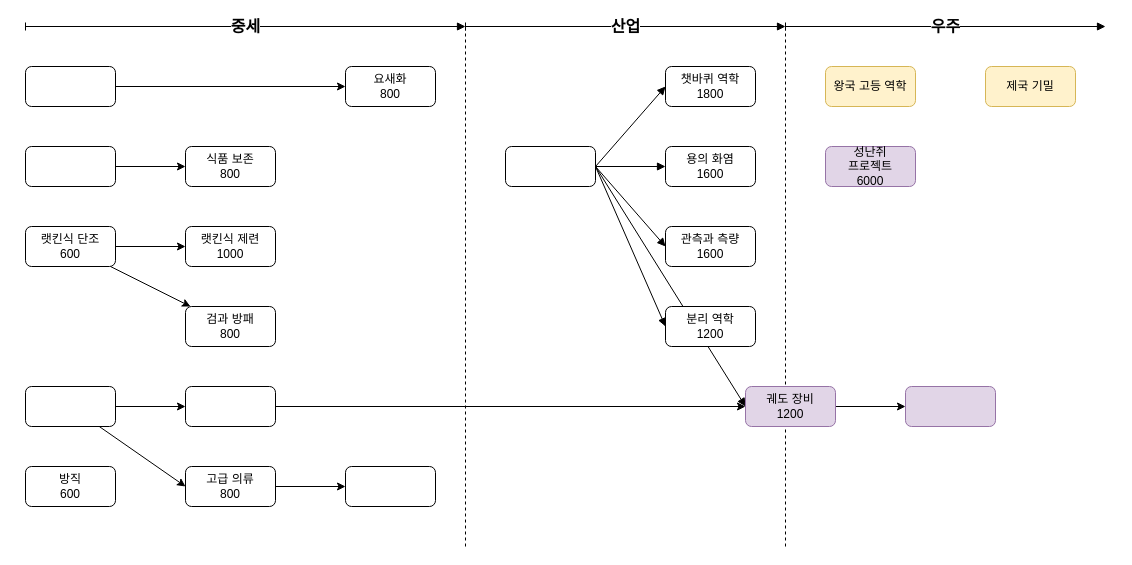
This 1132x565 diagram has some shape labels left out. The shapes that lost their labels are listed below. From the top down, each one's centre as x and y in pixels, then its label:
the point at 70,86: 목공 800
the point at 70,166: 농업 600
the point at 550,166: 랫킨 공학 1200
the point at 70,406: 랫킨 의류 600
the point at 230,406: 기능성 의류 600
the point at 950,406: 크루세이더 갑옷 6000
the point at 390,486: 귀족 의류 400
